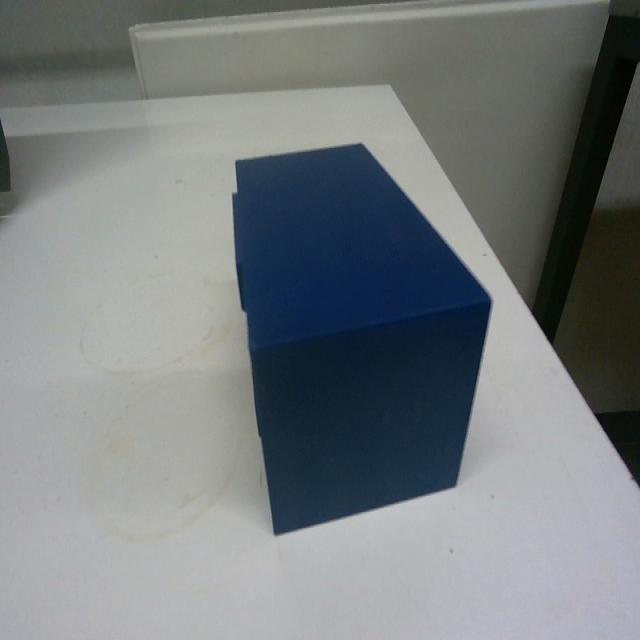Blue Cuboid: (228, 137, 494, 535)
